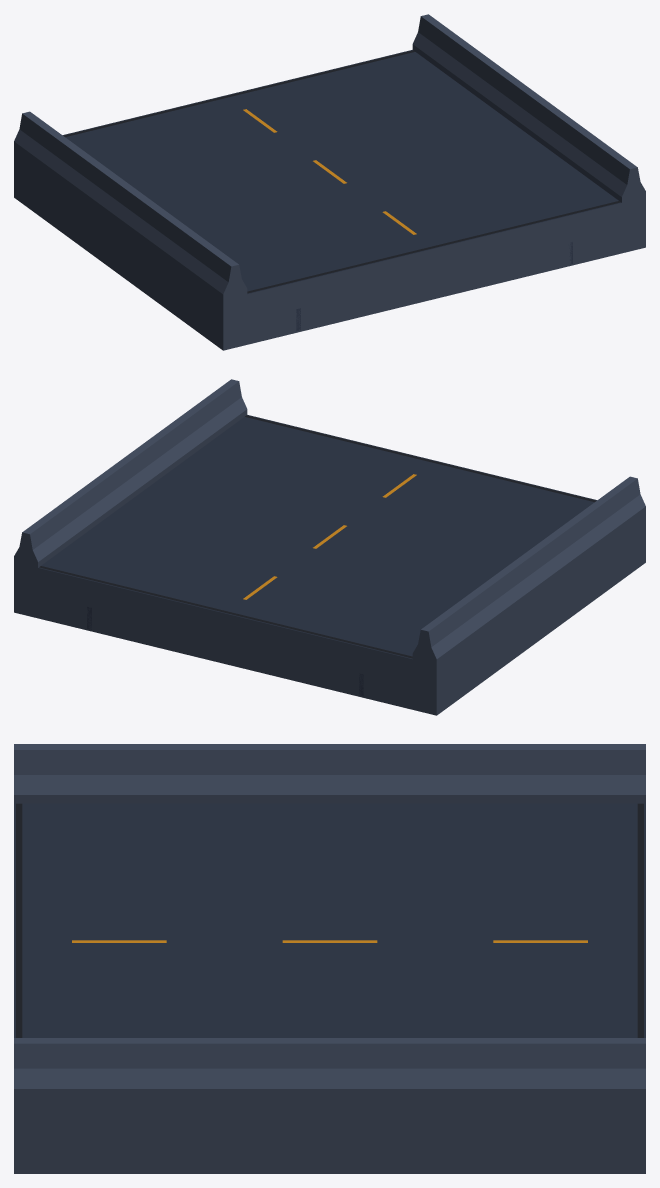
The model's file is city_overpass_deck.glb.
The picture shows the model from 3 angles, top to bottom: view 1: azimuth 30°, elevation 25°; view 2: azimuth 150°, elevation 25°; view 3: azimuth 270°, elevation 25°; orthographic projection. The views are drawn at different scales.
Parts seen in each view (by area): view 1: walk_slab, side_barrier.001, side_barrier; view 2: walk_slab, side_barrier.001, side_barrier; view 3: walk_slab, side_barrier, side_barrier.001.
Boxes of the visible parts, <box> form: walk_slab: <box>14,50,645,350</box>; side_barrier.001: <box>412,14,645,202</box>; side_barrier: <box>14,111,247,299</box>; walk_slab: <box>14,415,645,715</box>; side_barrier.001: <box>14,379,247,567</box>; side_barrier: <box>412,476,645,664</box>; walk_slab: <box>14,803,645,1173</box>; side_barrier: <box>14,744,645,803</box>; side_barrier.001: <box>14,1038,645,1097</box>.
Bounding box in the file's own units: 14 × 2.6 × 12.
